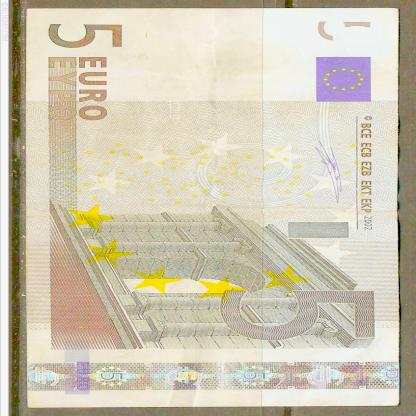euro_banknote: (14, 24, 412, 394)
